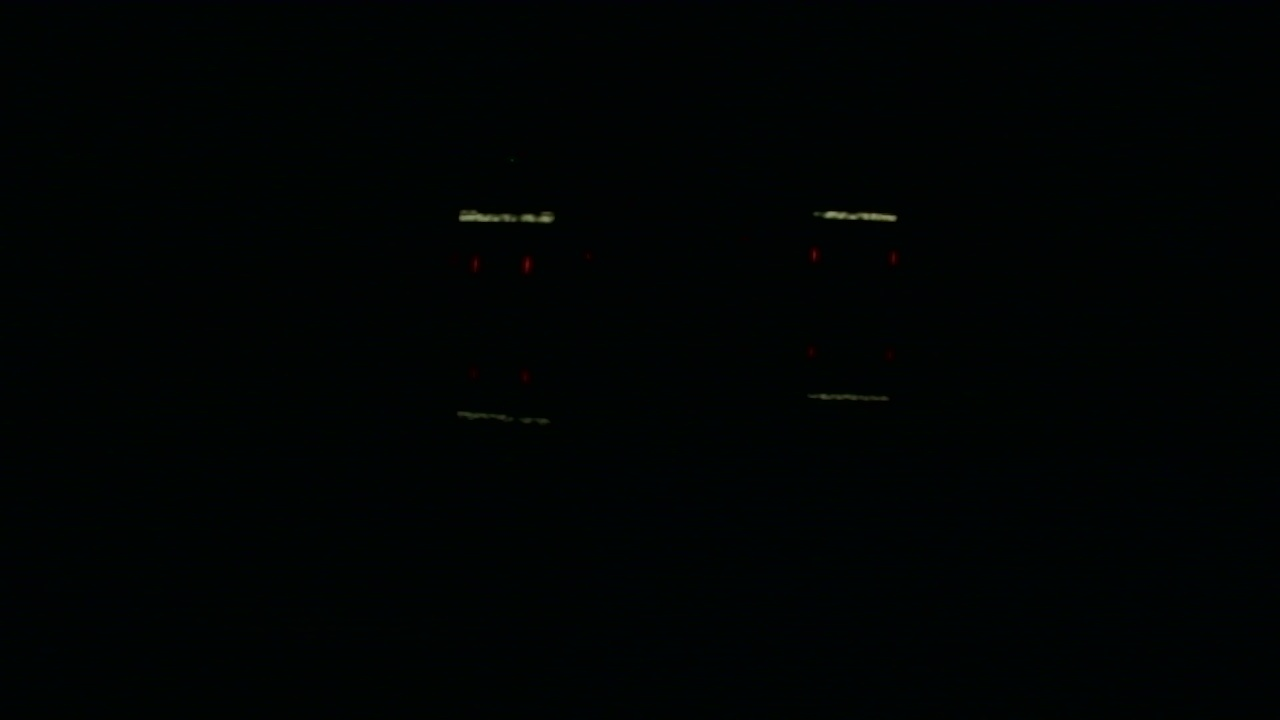lamp: (889, 245, 900, 269), (810, 244, 820, 268), (523, 257, 532, 269), (473, 257, 477, 269)
pair1: (474, 258, 530, 270)
pair2: (813, 246, 900, 270)
